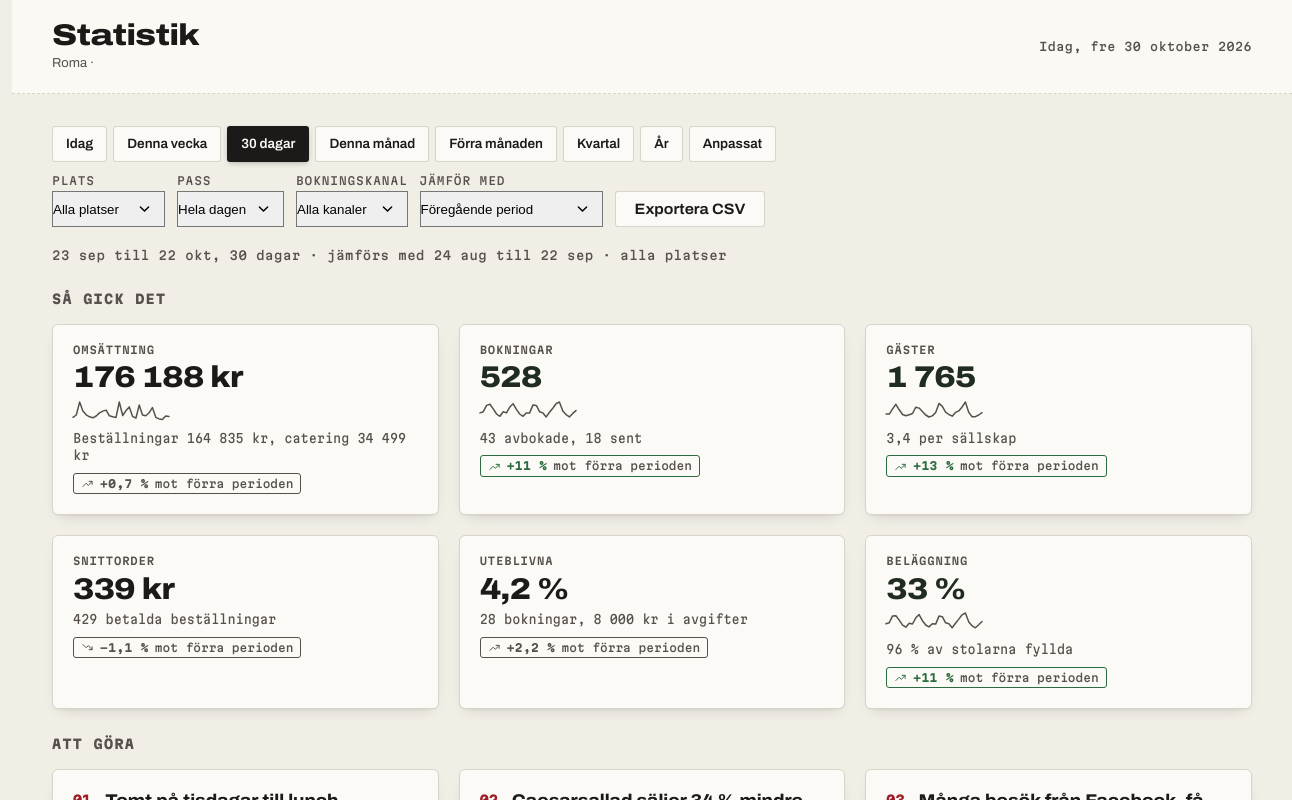
Scenario: StatistikPage › puts the filters in the address and asks again
Expected: the heading "Så gick det" is shown, [52,291,166,307]
Click the button "Denna månad". click: (372, 144)
box: [315,126,429,162]
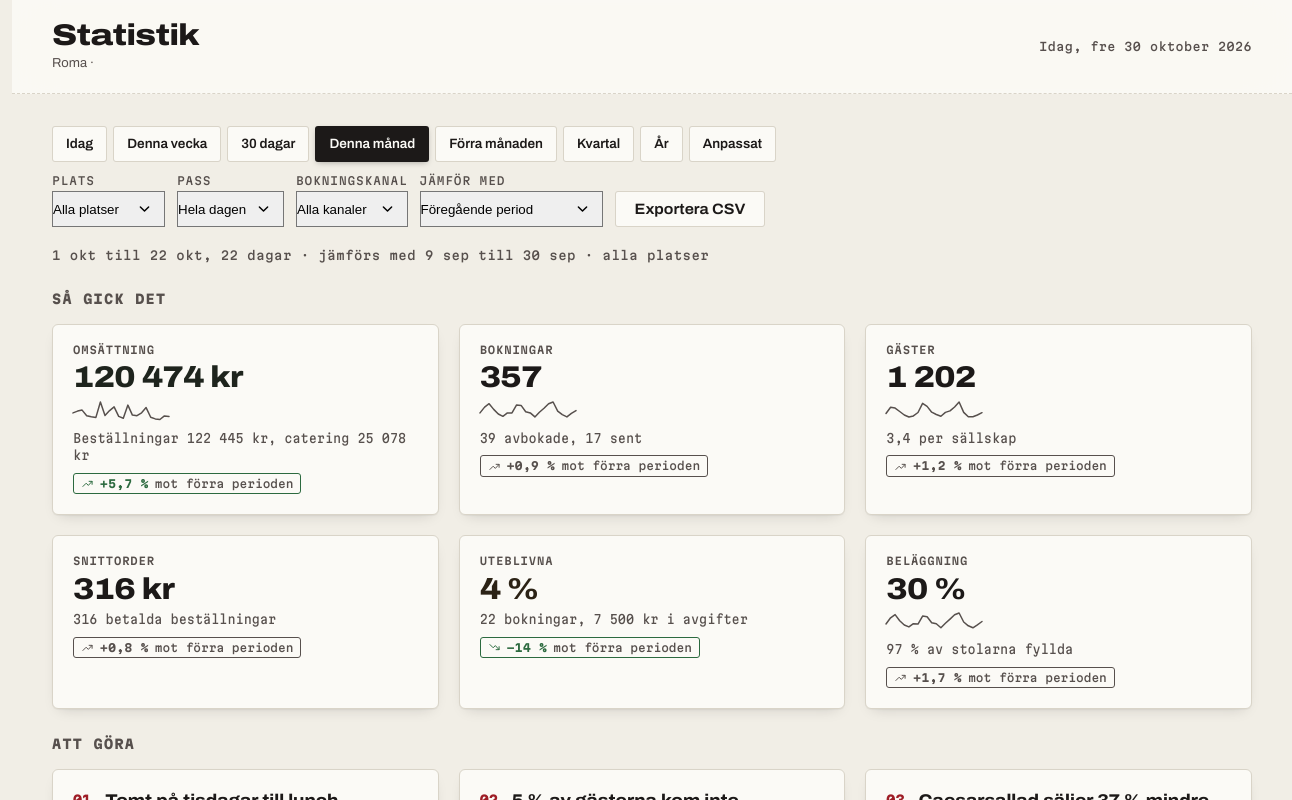
Select "Lunch" in the dropdown labelled "Pass". click: (230, 209)
box: [177,191,284,227]
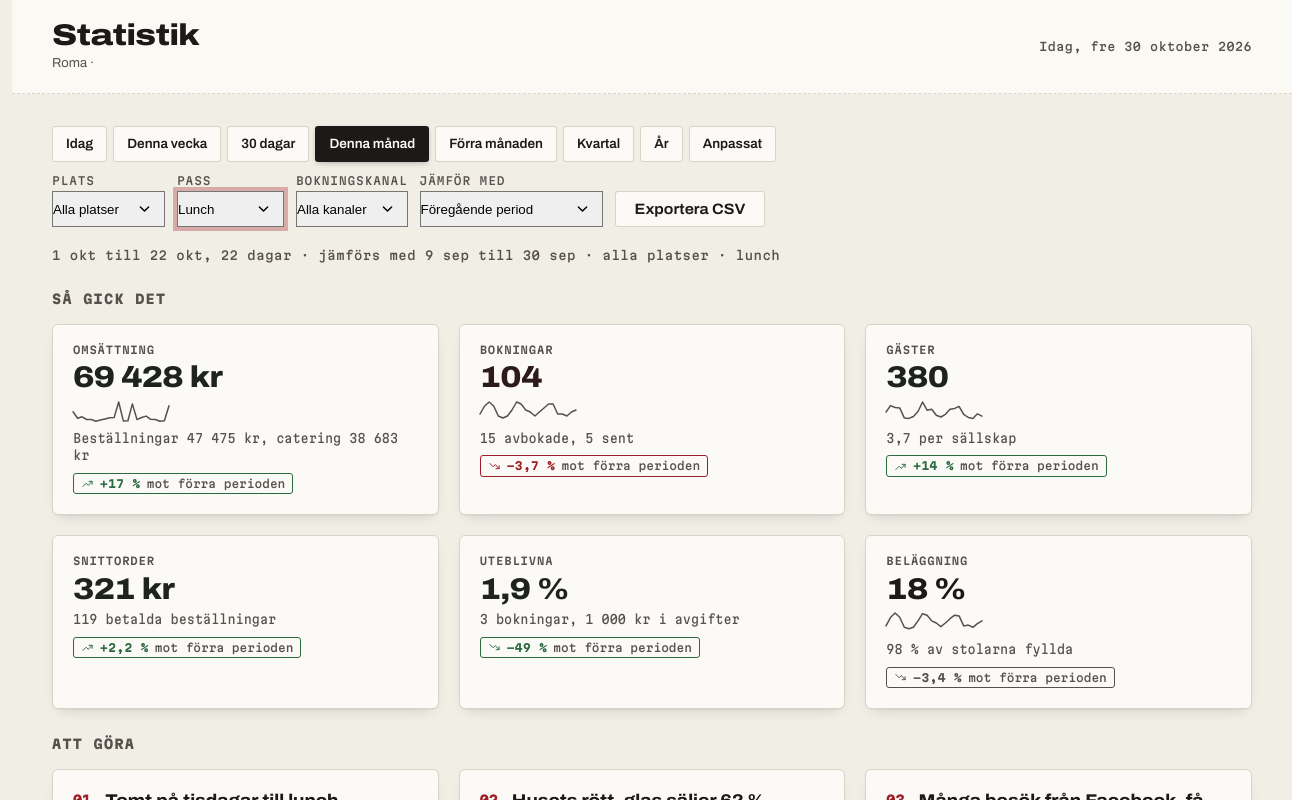
Select "Samma period förra året" in the dropdown labelled "Jämför med". click: (511, 209)
box: [420,191,602,227]
(page scrolled)
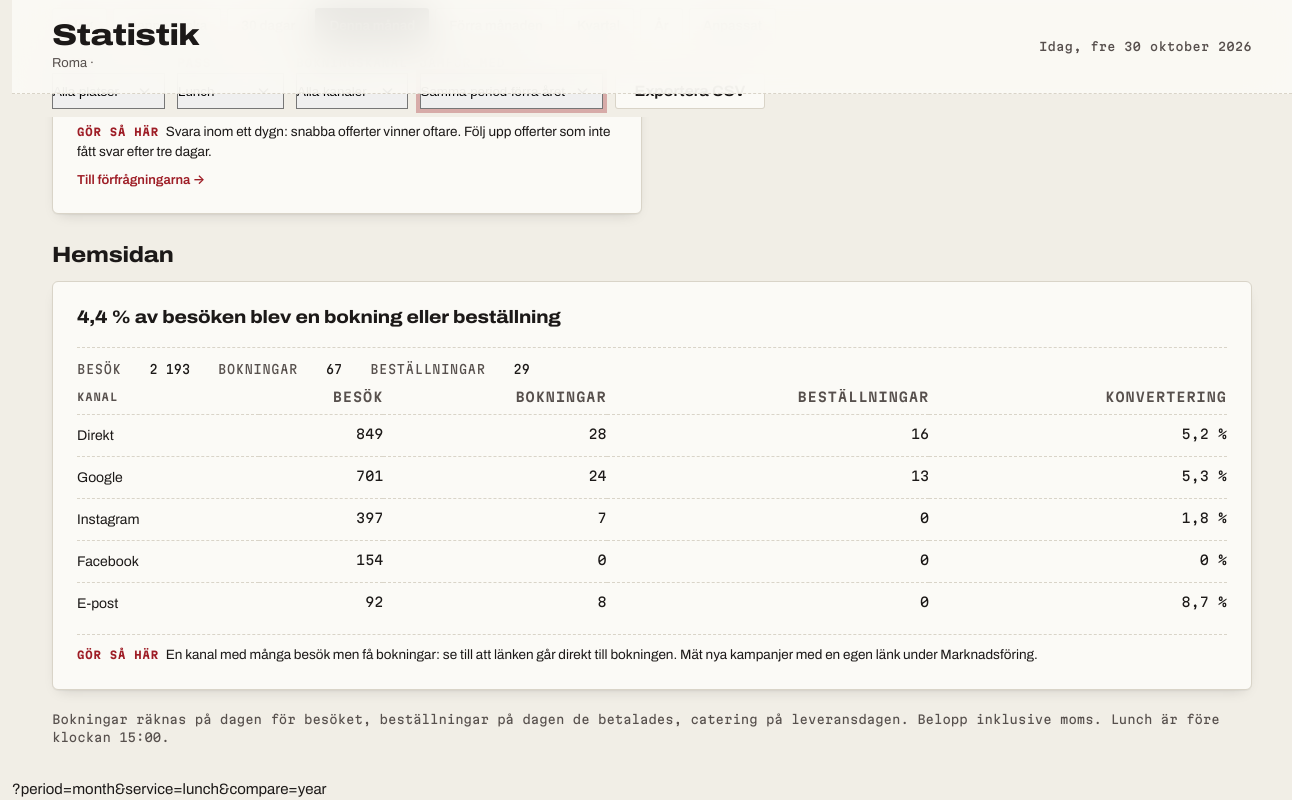
Result: the text with test id "where" reads "?period=month&service=lunch&compare=year" at [12,781,327,797]
